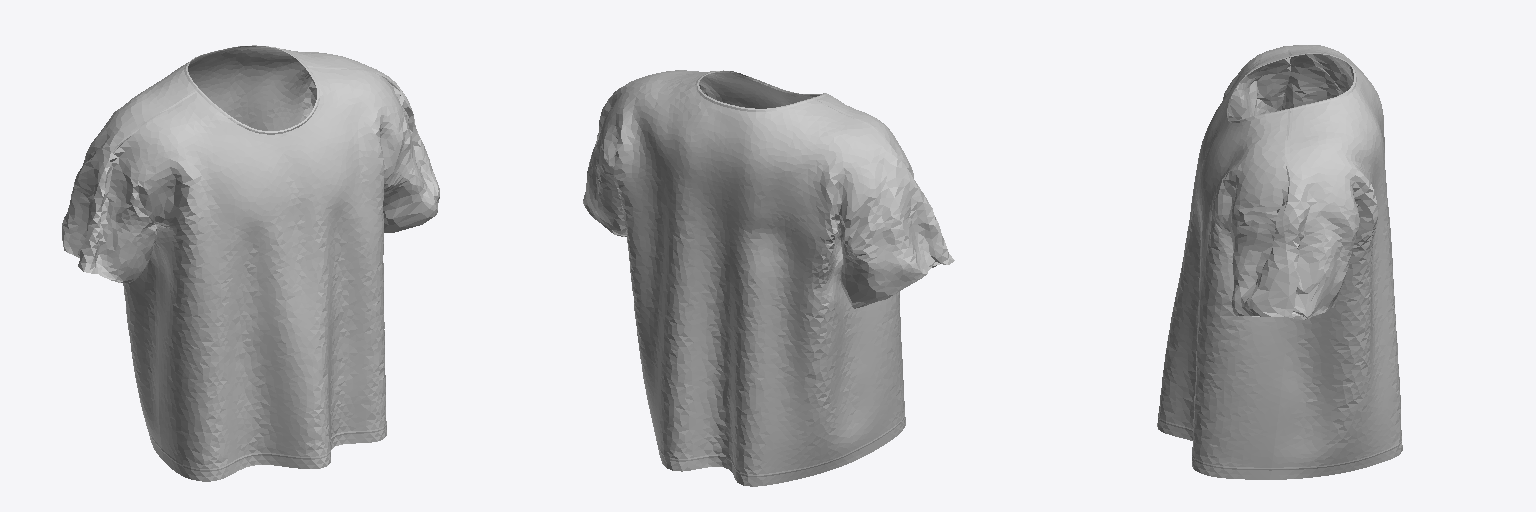
The model's file is Large_Short.obj.
3 views of the same model, side by side, from view 1: azimuth 30°, elevation 25°; view 2: azimuth 150°, elevation 25°; view 3: azimuth 270°, elevation 25° (orthographic).
Parts seen in each view (by area): view 1: 短袖.002; view 2: 短袖.002; view 3: 短袖.002.
Boxes of the visible parts, <box> form: 短袖.002: <box>62,45,439,481</box>; 短袖.002: <box>583,70,954,486</box>; 短袖.002: <box>1157,45,1402,479</box>.
Bounding box in the file's own units: 0.65 × 0.6203 × 0.3849.